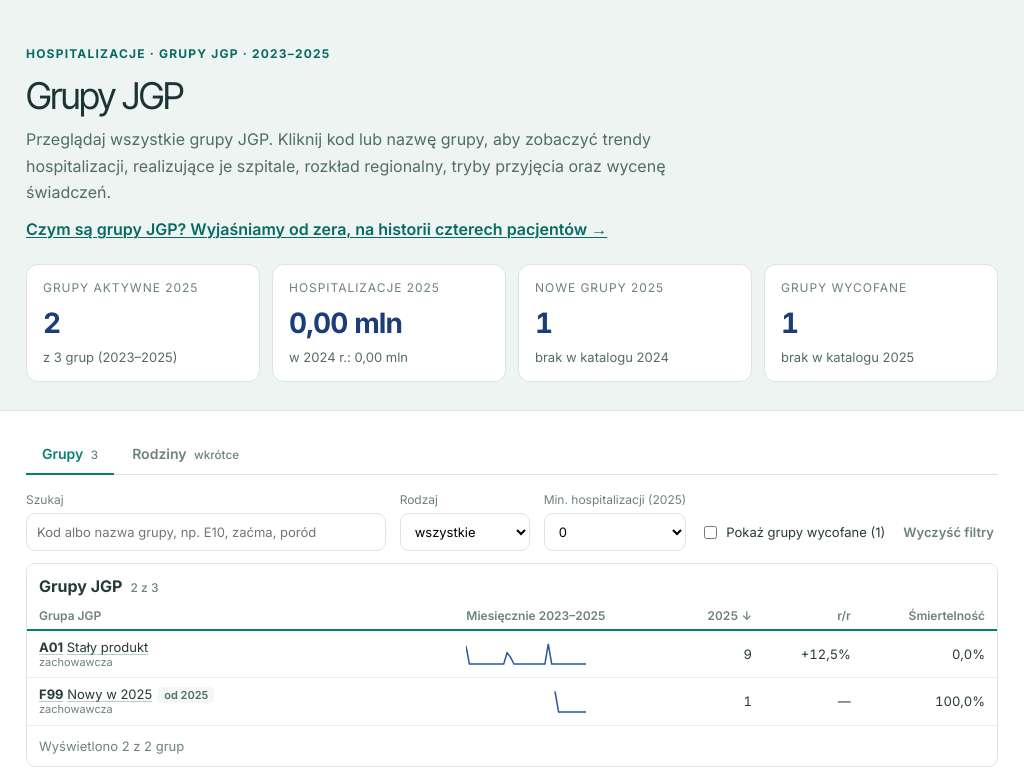
Test: Katalog grup JGP › badge z latami tylko przy kodach, których nie było przez cały okres
The image size is (1024, 768).
Click the checkbox labelled "Pokaż grupy wycofane (1)" at [711, 532], box 704,526 -> 717,539
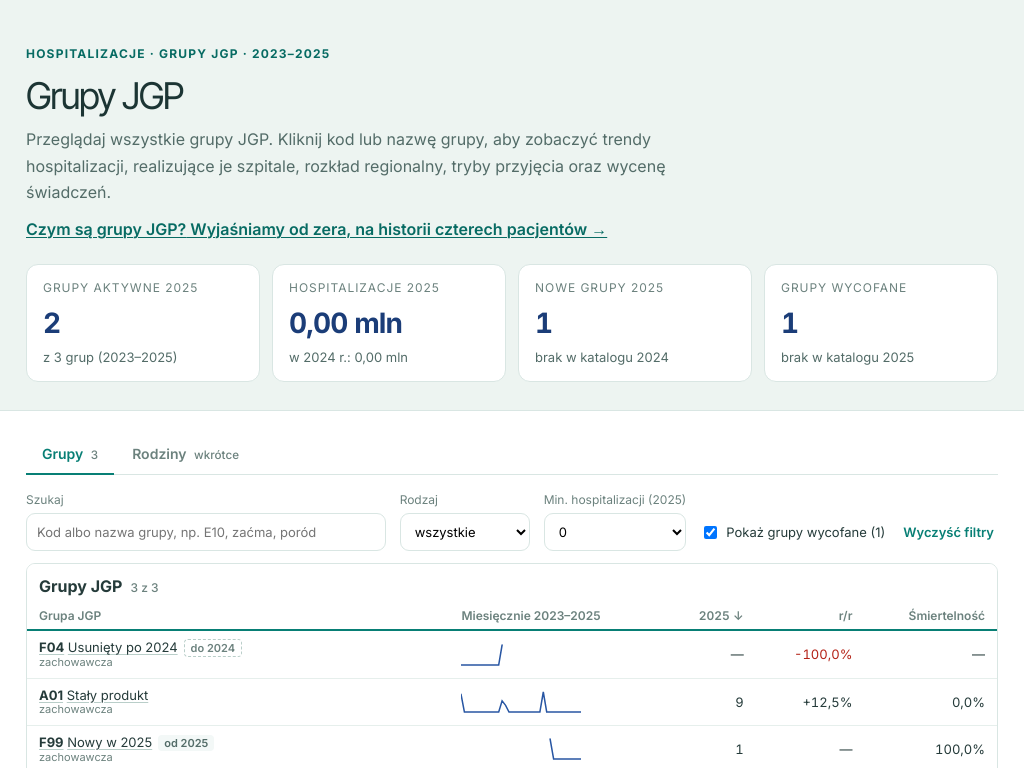
Check: the text "od 2025" is shown, box 158,735 -> 214,751
Check: the text "do 2024" is shown, box 184,639 -> 242,657
